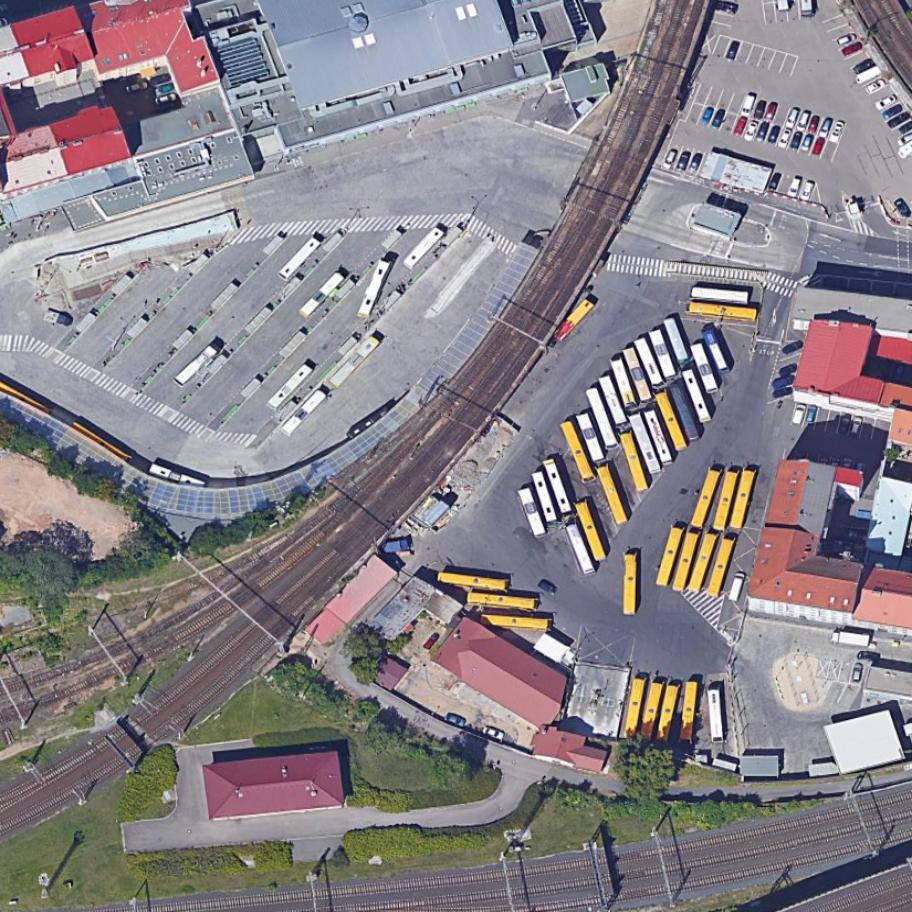large-vehicle: (328, 333, 384, 393), (266, 362, 316, 415), (280, 387, 329, 441), (558, 420, 598, 486), (172, 341, 223, 391), (627, 410, 664, 477), (298, 270, 347, 320), (356, 257, 394, 321), (585, 385, 621, 451), (276, 235, 323, 284), (689, 466, 724, 531), (686, 531, 721, 596), (573, 498, 608, 563), (667, 379, 703, 442), (654, 390, 690, 453), (595, 462, 630, 526), (551, 297, 596, 345), (641, 407, 675, 470), (402, 225, 447, 272), (670, 529, 702, 595), (654, 523, 686, 588), (711, 467, 742, 533), (706, 536, 738, 599), (541, 457, 574, 517), (633, 335, 668, 391), (619, 430, 650, 493), (727, 467, 758, 530), (564, 520, 598, 577), (681, 366, 713, 424), (437, 568, 510, 593), (147, 462, 207, 492), (597, 373, 630, 427), (609, 355, 640, 412), (622, 347, 653, 404), (654, 683, 682, 745), (690, 341, 721, 395), (517, 486, 548, 540), (701, 325, 733, 377), (575, 411, 606, 464), (647, 327, 678, 380), (622, 677, 648, 740), (639, 680, 665, 743), (466, 591, 541, 612), (530, 469, 558, 524), (661, 316, 691, 365), (685, 301, 757, 321), (679, 680, 700, 743), (479, 614, 554, 631), (621, 551, 639, 616), (690, 287, 749, 305), (707, 687, 724, 743), (829, 629, 871, 650)
small-vehicle: (727, 571, 748, 604), (886, 108, 912, 130), (873, 92, 899, 113), (852, 56, 878, 76), (707, 106, 727, 132), (780, 336, 805, 356), (771, 374, 798, 392), (537, 577, 560, 598), (828, 119, 847, 144), (738, 92, 756, 118), (817, 115, 835, 141), (839, 41, 864, 59), (444, 712, 469, 730), (762, 101, 780, 126), (422, 630, 442, 652), (724, 39, 742, 63), (799, 177, 816, 202), (742, 118, 759, 143), (481, 726, 507, 742), (866, 78, 889, 96), (790, 402, 807, 426), (125, 79, 149, 96), (754, 120, 771, 144), (674, 151, 691, 175), (661, 147, 678, 171), (882, 103, 905, 120), (732, 114, 749, 137), (786, 175, 803, 198), (785, 107, 801, 131), (771, 385, 796, 400), (777, 362, 799, 379), (849, 415, 866, 437), (777, 128, 793, 151), (810, 136, 827, 157), (796, 110, 811, 133), (767, 171, 782, 194), (767, 124, 783, 145), (836, 33, 858, 48), (753, 99, 768, 121), (688, 152, 703, 174), (700, 106, 715, 127), (156, 92, 178, 106), (150, 72, 172, 86), (893, 362, 907, 383), (807, 114, 821, 135), (790, 131, 804, 152), (858, 652, 882, 664), (799, 134, 815, 152), (817, 456, 831, 475), (838, 415, 851, 435), (806, 404, 819, 423), (829, 457, 842, 476), (156, 82, 175, 95), (856, 461, 868, 480), (841, 458, 853, 475), (852, 663, 863, 681)
